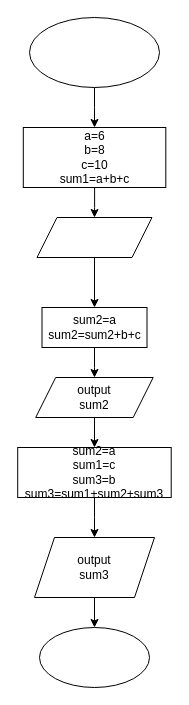
Image size: 189x705. Some labels were removed from this diagram. Here are the shapes that lost their labels. From the top down, the box of each, then its label:
(28, 16, 160, 88): start
(36, 216, 152, 258): output sum1
(38, 626, 150, 688): stop
